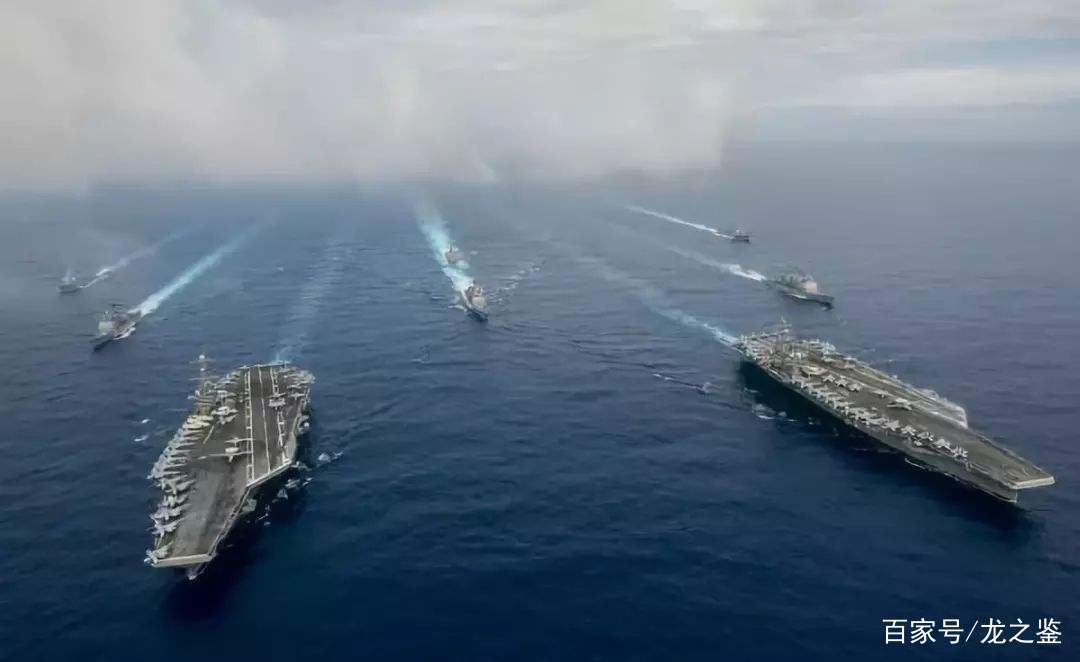warship: (732, 318, 1057, 523), (129, 348, 328, 588), (79, 293, 144, 353), (767, 261, 834, 308), (462, 278, 491, 325)
